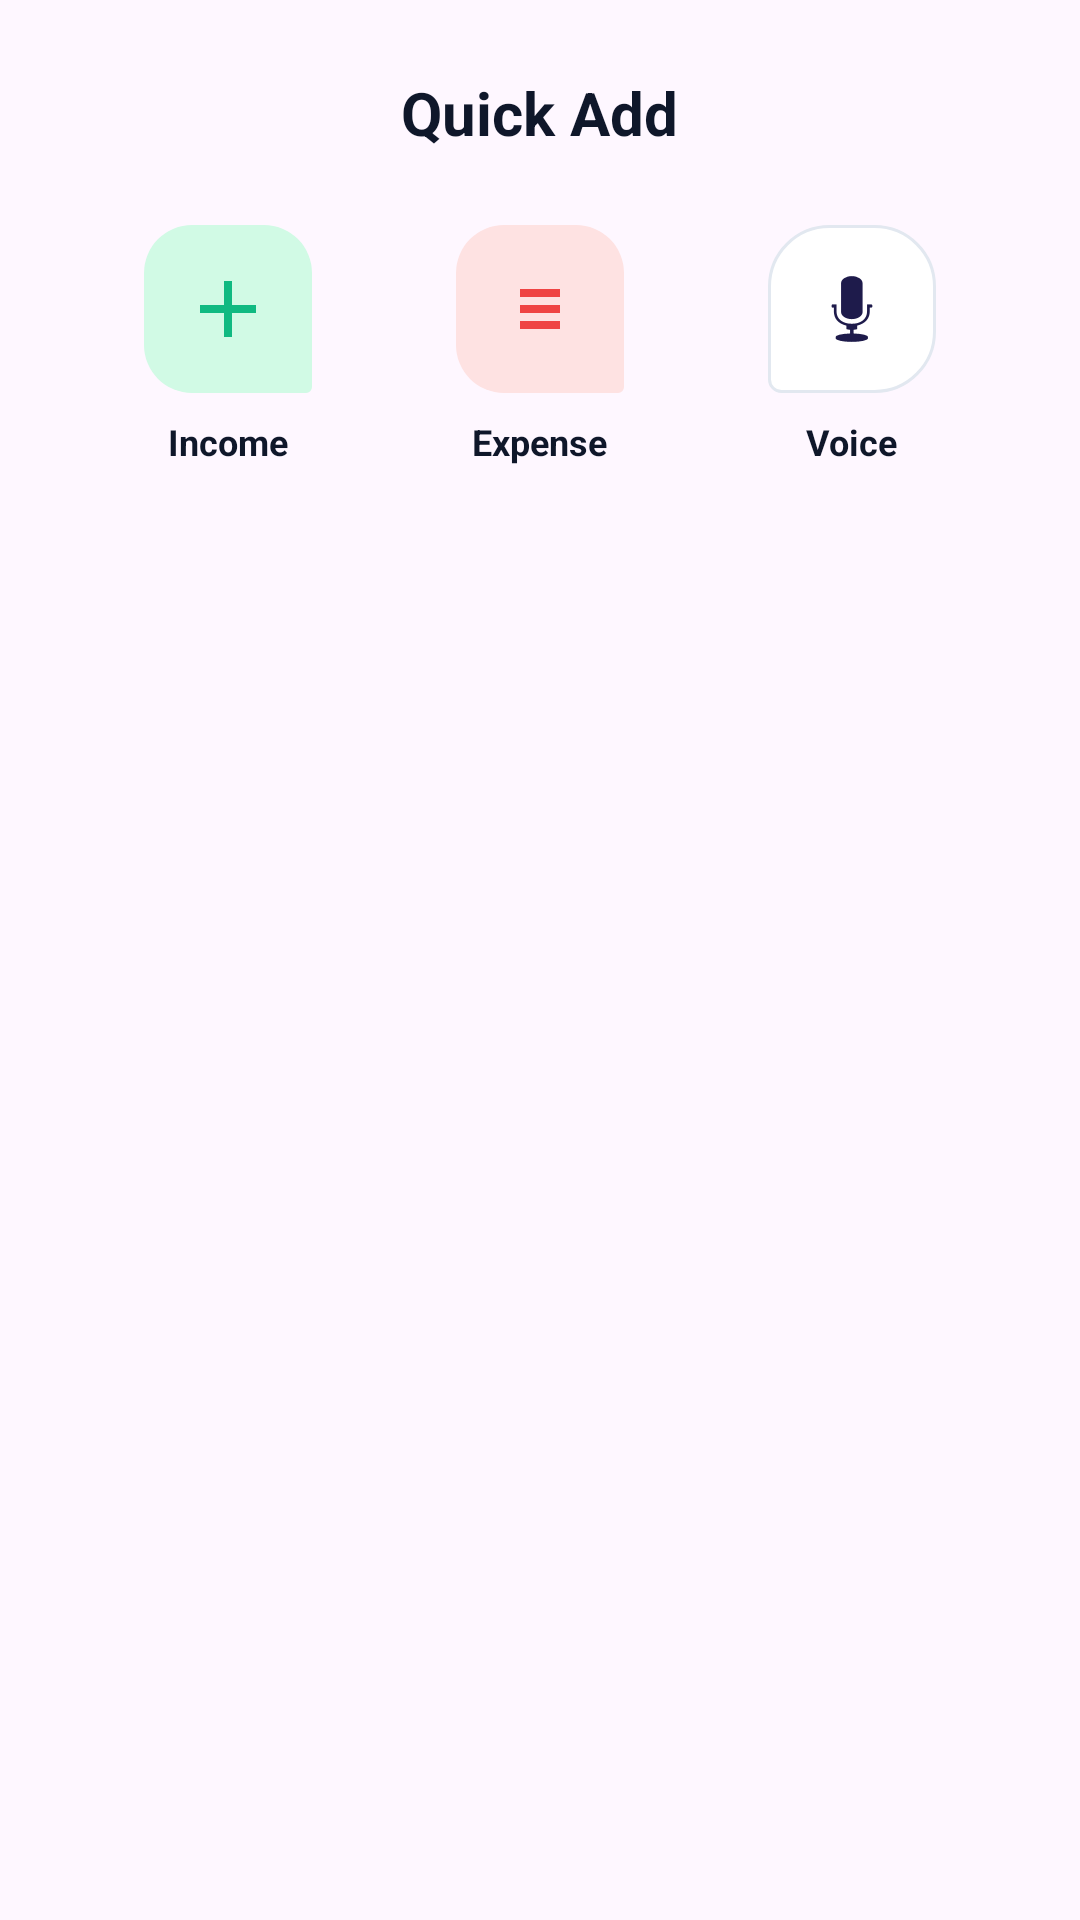

Screen size 1080px x 1920px. Icon name, then its center in pixels as (x,y):
speak now: (852,309)
